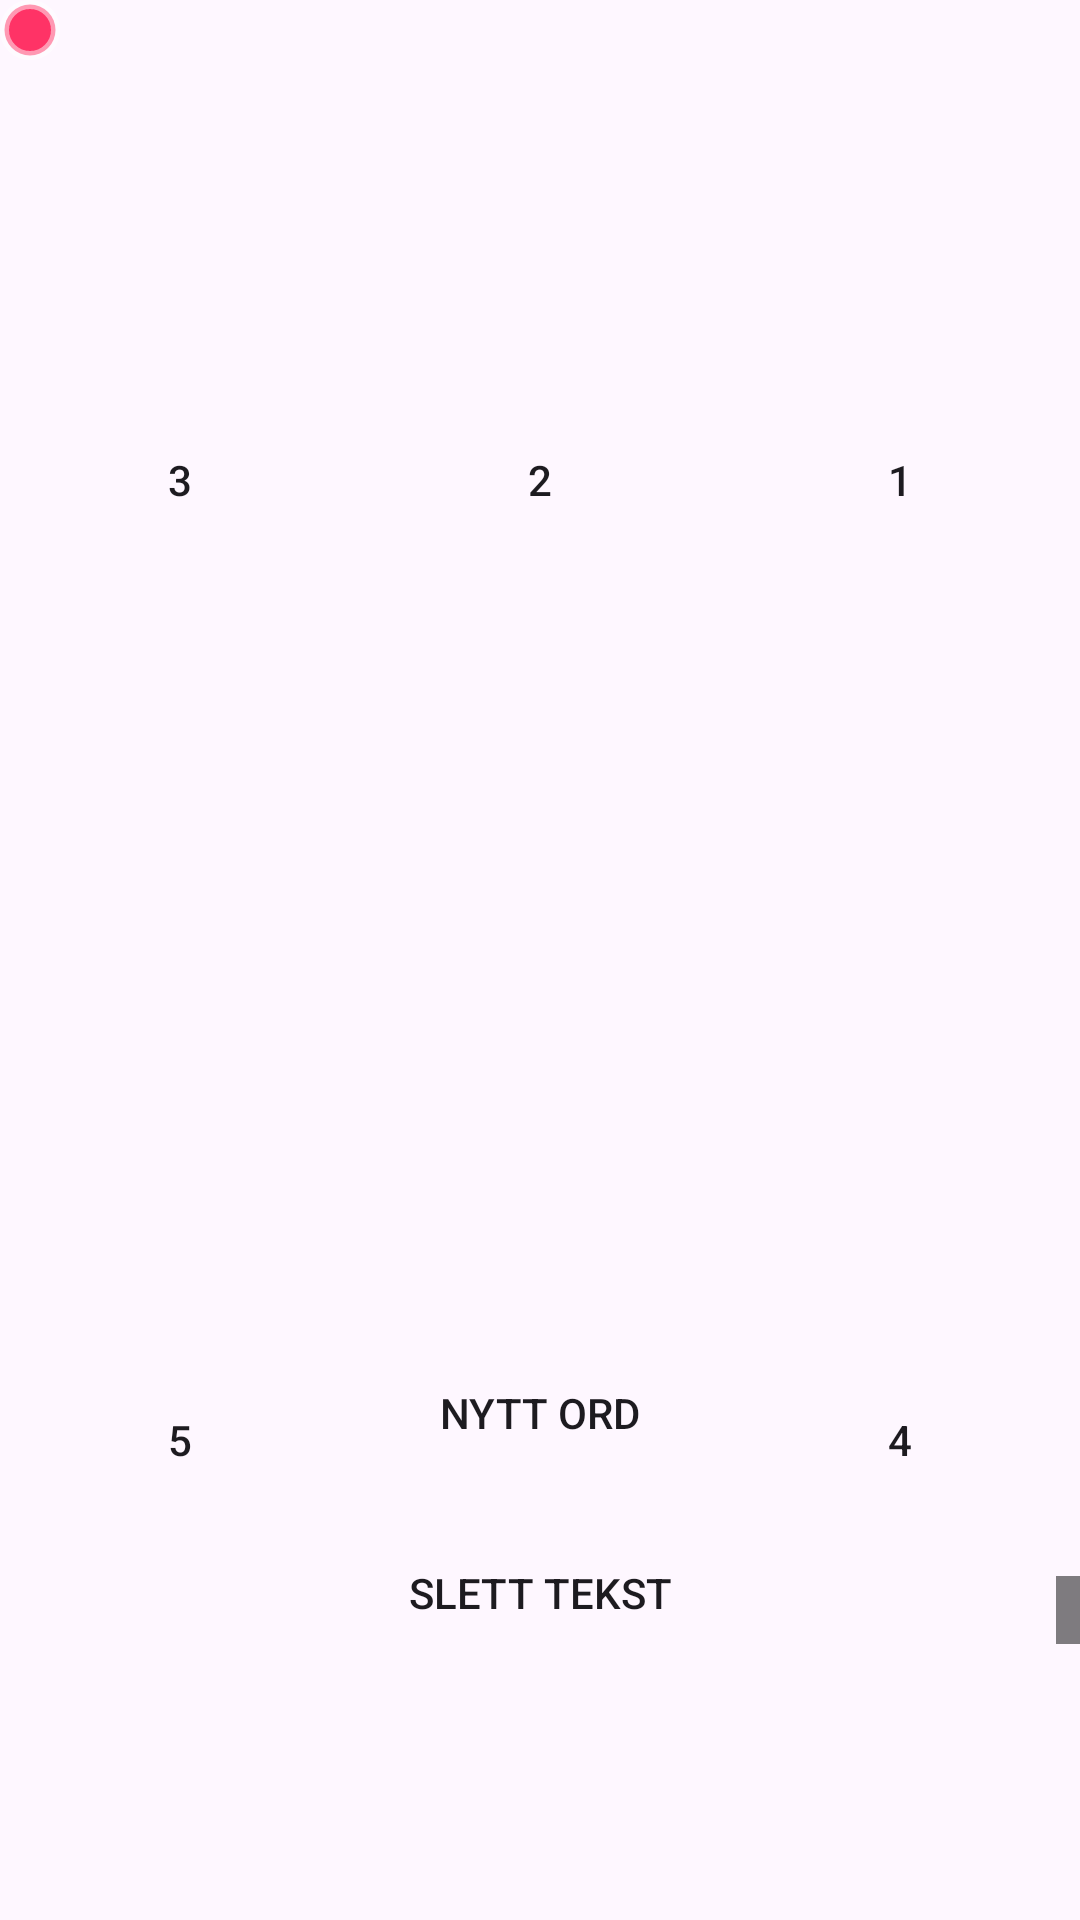

Locate icon controls on the screen. Image size 1080x1920, boxes as {"left": x1, "top": y1, "right": x2, "bottom": y2}.
gaze dot: {"left": 4, "top": 4, "right": 56, "bottom": 56}
